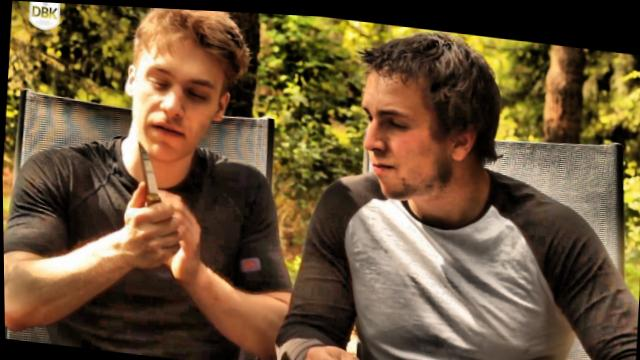knife: (109, 129, 194, 239)
